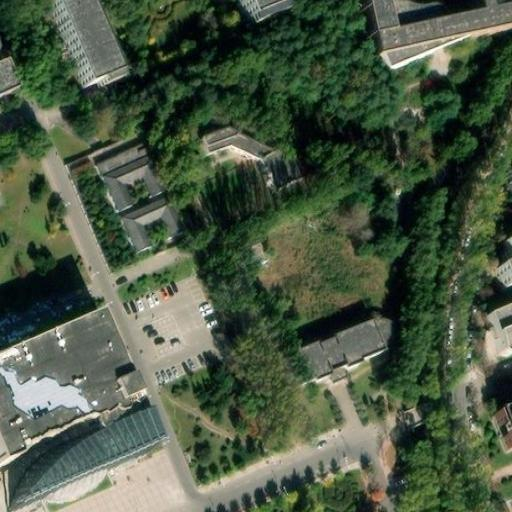building: (0, 305, 130, 471), (343, 0, 509, 92), (286, 333, 378, 397), (115, 194, 182, 257), (98, 157, 164, 216), (199, 121, 267, 160), (93, 144, 143, 178), (486, 246, 512, 294), (490, 396, 512, 448), (0, 53, 15, 93)
